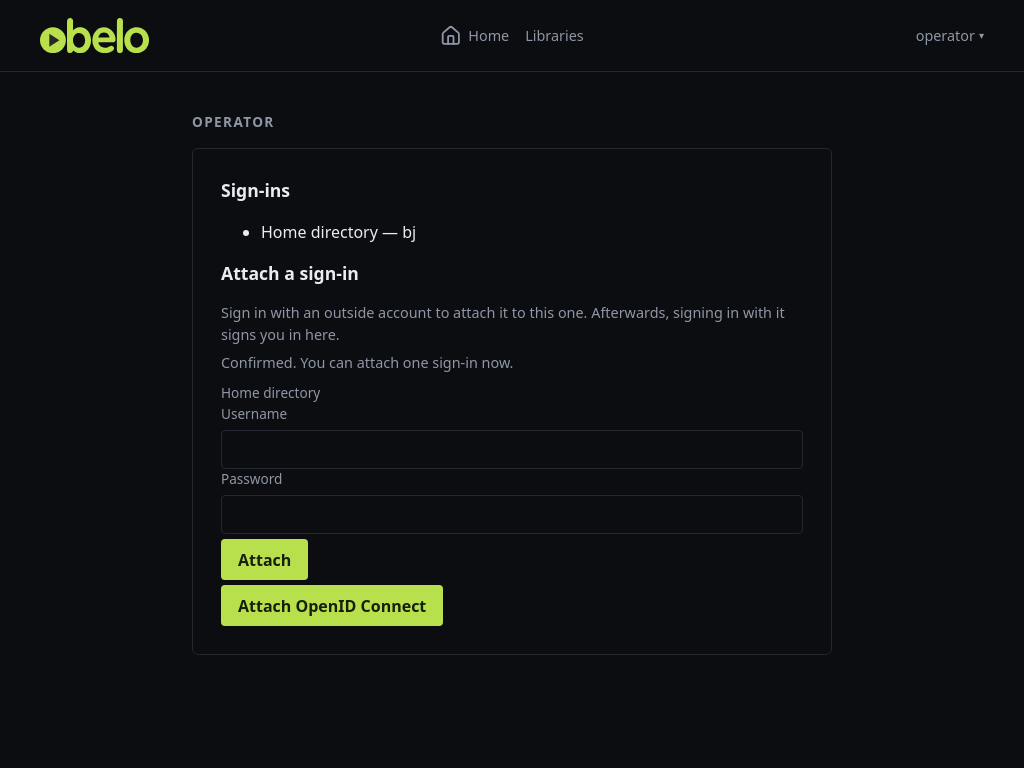
Scenario: confirming it is you before an attach › re-checks the grant when it is used, not only at mount
The width and height of the screenshot is (1024, 768).
Expected: the text "Confirmed. You can attach one sign-in now." is shown, [221,353,514,372]
Click the button with test id "profile-attach-redirect-oidc": [332, 606] box [221,585,443,626]
(page scrolled)
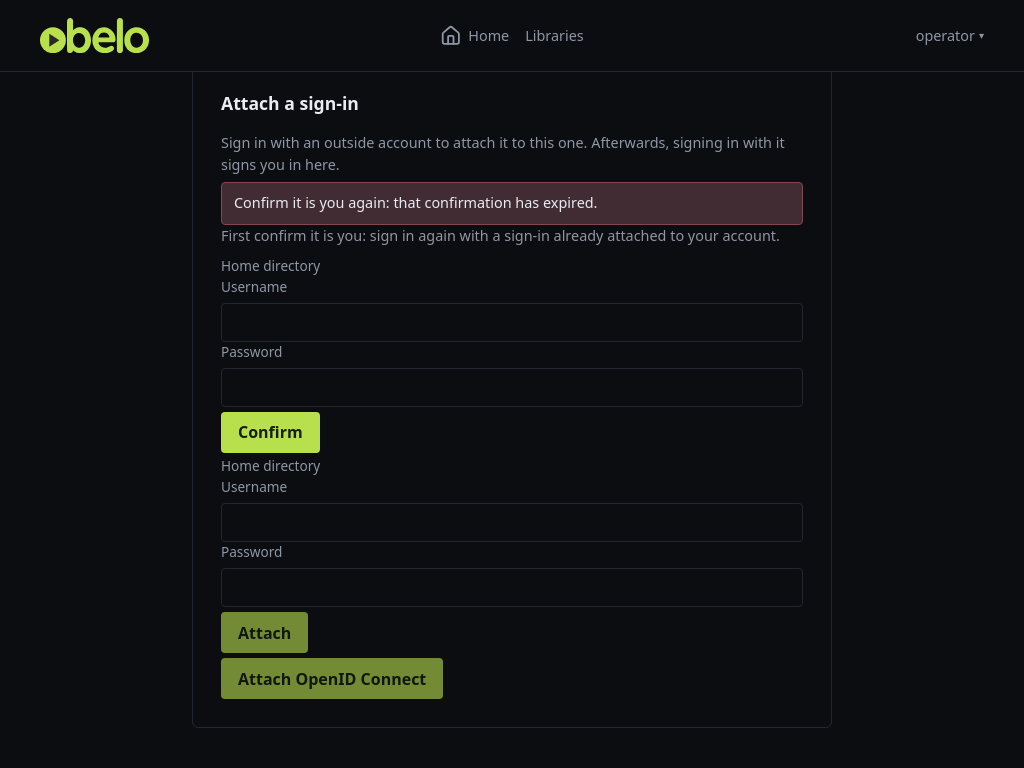
Now the message with test id "profile-attach-error" shows "Confirm it is you again", box [234,193,598,212]
Now the button with test id "profile-attach-redirect-oidc" is disabled, box [221,658,443,699]
